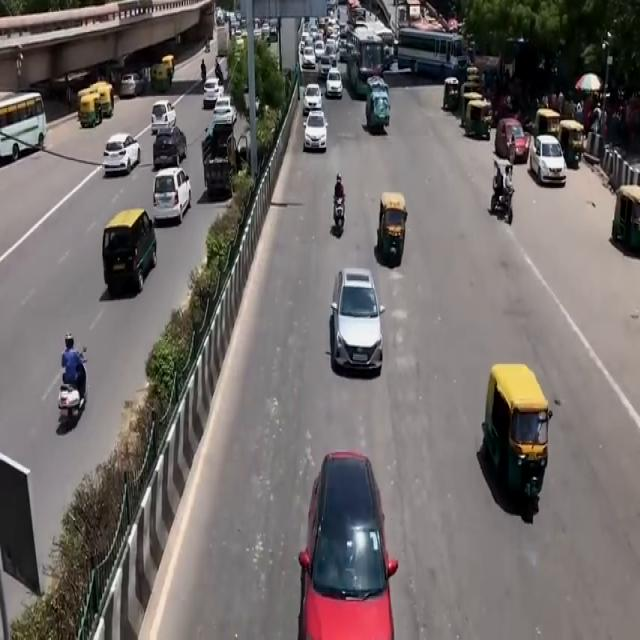BUS: (396, 26, 466, 80), (0, 93, 45, 171)
MOTORCYCLE: (59, 368, 88, 432), (335, 198, 348, 240)
